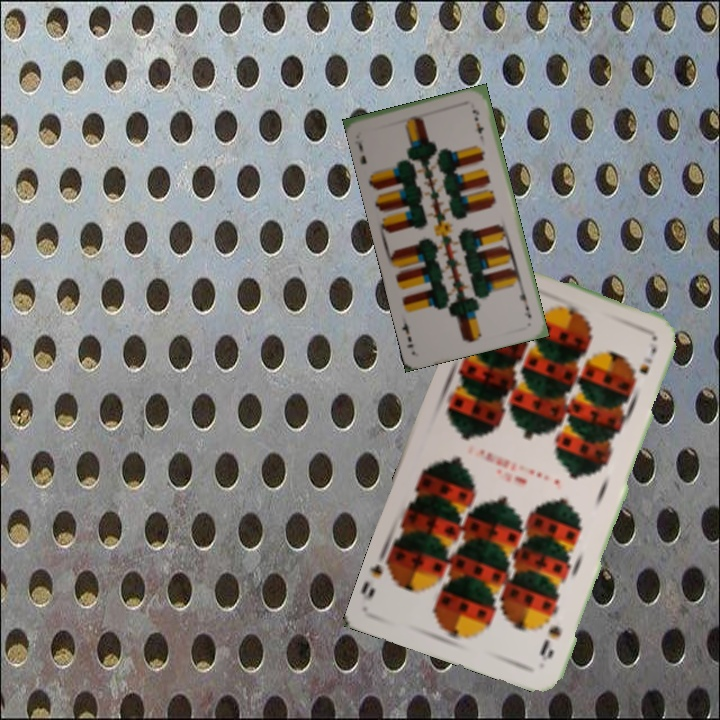E7: (515, 284, 534, 321), (352, 137, 369, 167)
S9: (535, 622, 564, 663)
